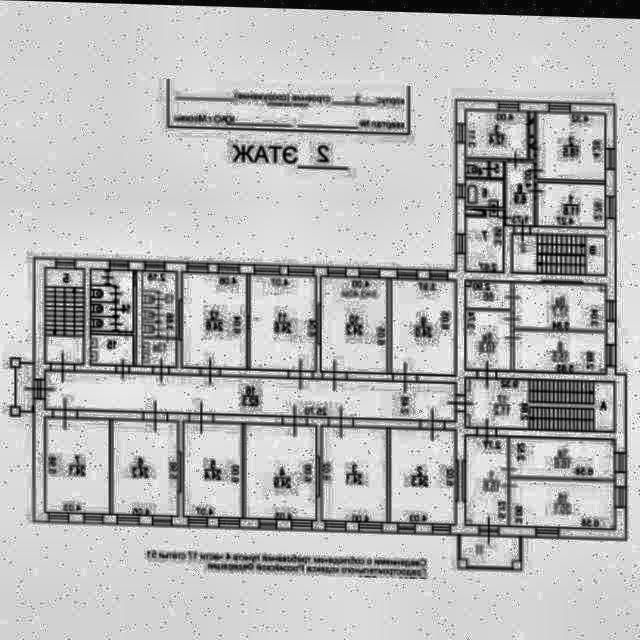room: (45, 370, 455, 418), (465, 373, 616, 427), (247, 422, 315, 517), (250, 273, 316, 368), (322, 274, 386, 370), (391, 425, 455, 521), (113, 419, 177, 514), (392, 276, 455, 371), (46, 418, 109, 513), (323, 425, 386, 519), (184, 272, 246, 366), (183, 421, 242, 517), (510, 475, 615, 524), (535, 109, 606, 177), (508, 433, 615, 475), (513, 279, 606, 326), (465, 433, 508, 523), (512, 230, 606, 271), (513, 328, 606, 368), (46, 267, 85, 362), (464, 107, 530, 155), (536, 179, 605, 223), (467, 308, 510, 365), (466, 207, 503, 268), (143, 269, 176, 336), (461, 531, 520, 564), (506, 159, 534, 222), (109, 269, 133, 331), (90, 334, 133, 364), (465, 279, 511, 305), (466, 177, 503, 203), (143, 338, 176, 365), (17, 363, 33, 410), (91, 285, 115, 301), (91, 316, 115, 330), (465, 159, 488, 173), (91, 302, 115, 314), (92, 269, 108, 284), (144, 291, 157, 305), (491, 159, 503, 174), (144, 322, 157, 335), (145, 307, 157, 320)
